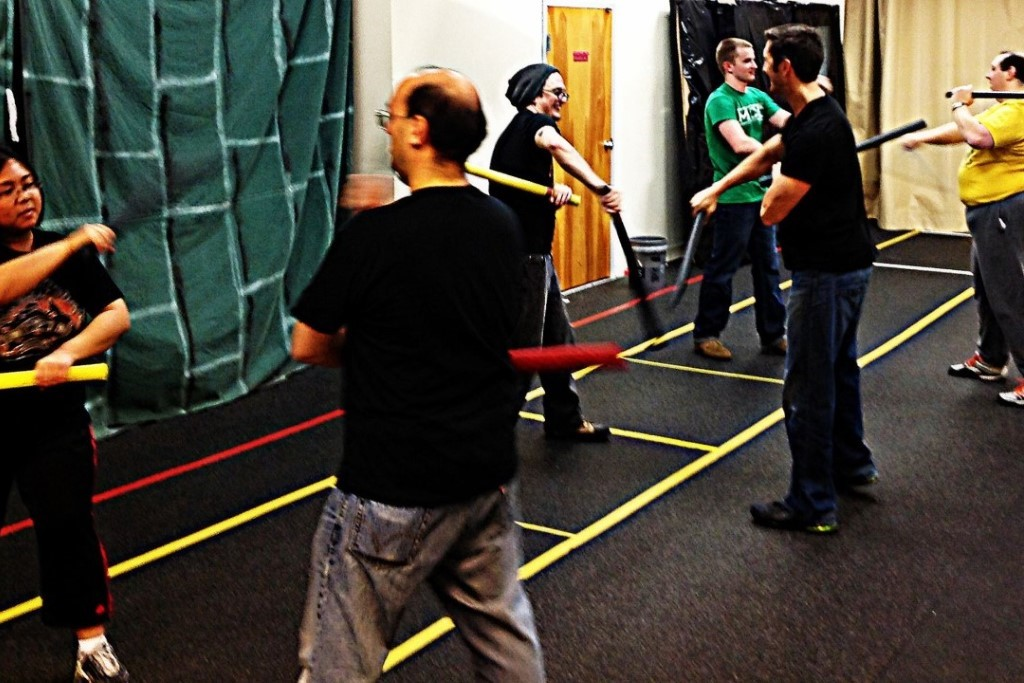baston_e: (764, 118, 919, 185), (609, 217, 658, 322), (464, 160, 571, 205), (3, 359, 97, 395), (509, 344, 613, 373), (672, 215, 708, 289), (950, 89, 1023, 97)
baston_v: (596, 335, 636, 372), (91, 358, 118, 384), (565, 191, 590, 212), (914, 114, 930, 131), (756, 176, 769, 187), (943, 89, 953, 99)
